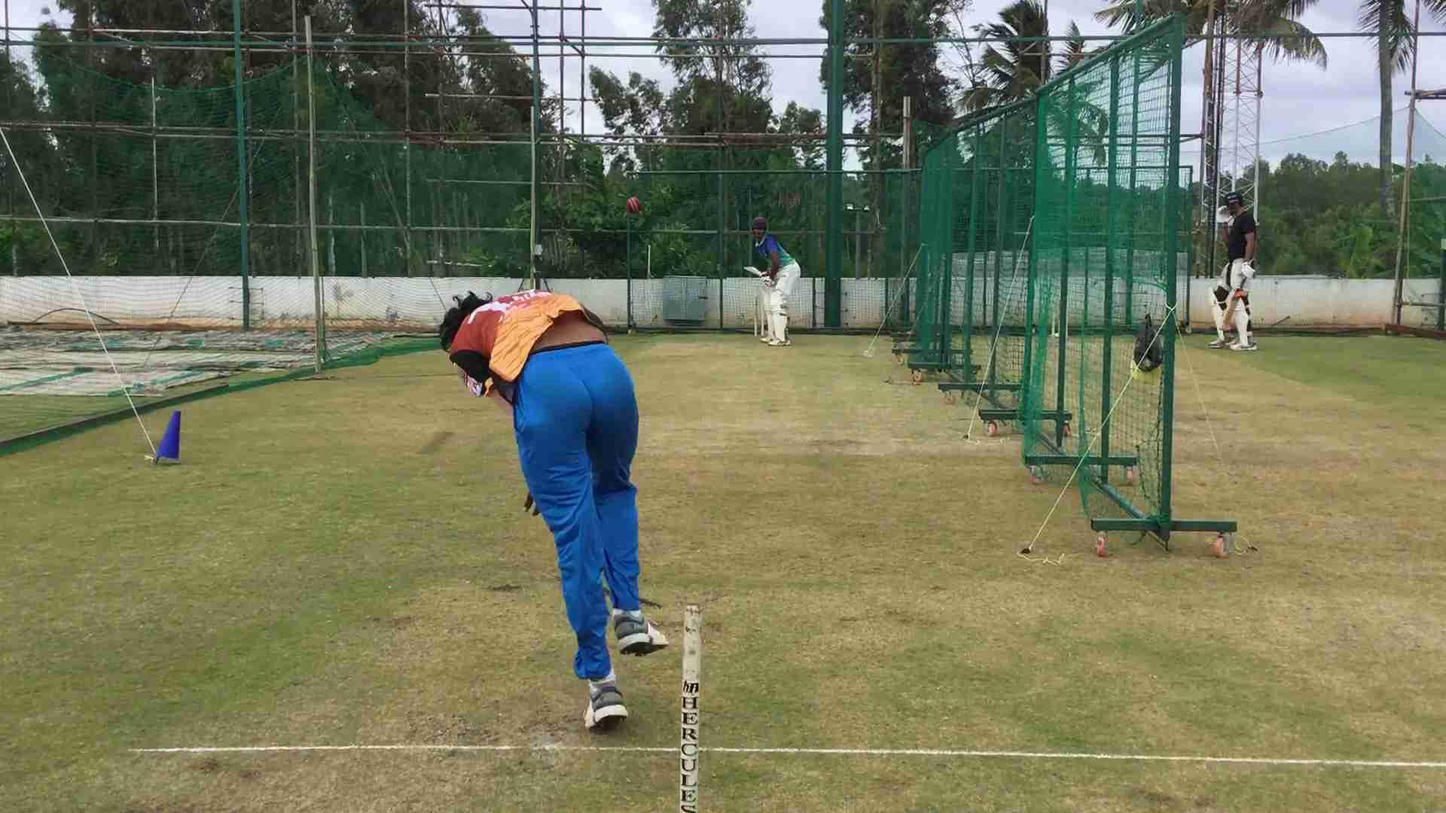batsman: (740, 206, 807, 353)
